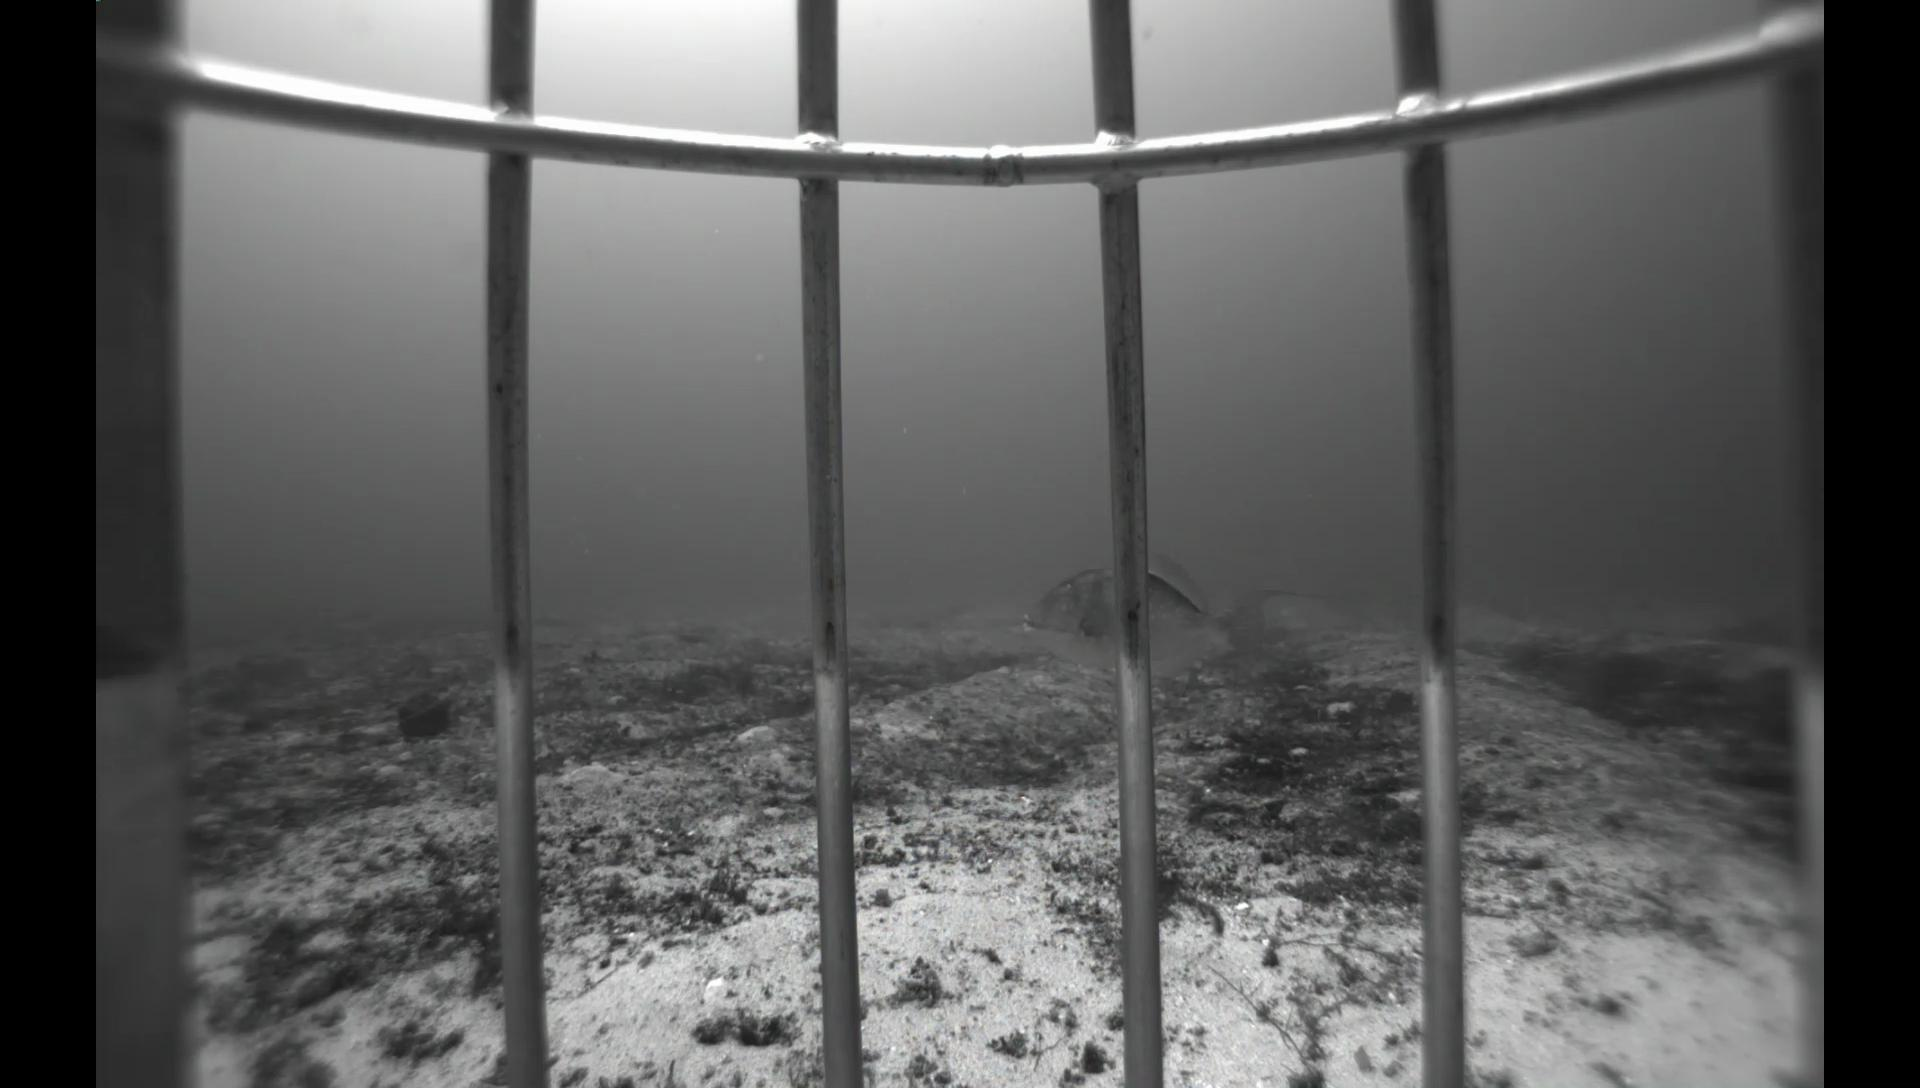BALISTESCAPRISCUS-189030502: (1007, 533, 1360, 699)
CALAMUSPRORIDENS-170210605: (186, 634, 252, 688)
